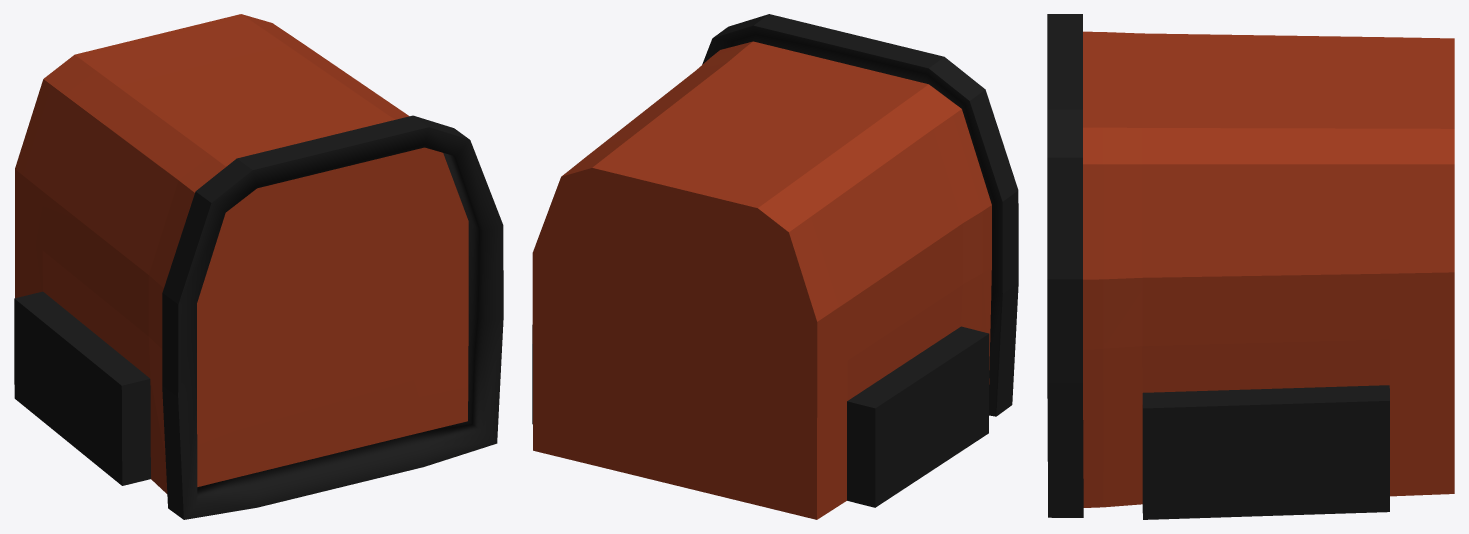
Rendered from czesc_6.fbx.
The picture shows the model from 3 angles, left to right: view 1: azimuth 30°, elevation 25°; view 2: azimuth 150°, elevation 25°; view 3: azimuth 270°, elevation 25°; orthographic projection. The views are drawn at different scales.
Visible parts, largest first — view 1: Cube.006; view 2: Cube.006; view 3: Cube.006.
Part boxes in pixels (x1,y1,x2,y2): Cube.006: (14,14,503,519); Cube.006: (532,14,1018,519); Cube.006: (1047,14,1454,519).
Size of the model in its own units: 325 by 299 by 293.
